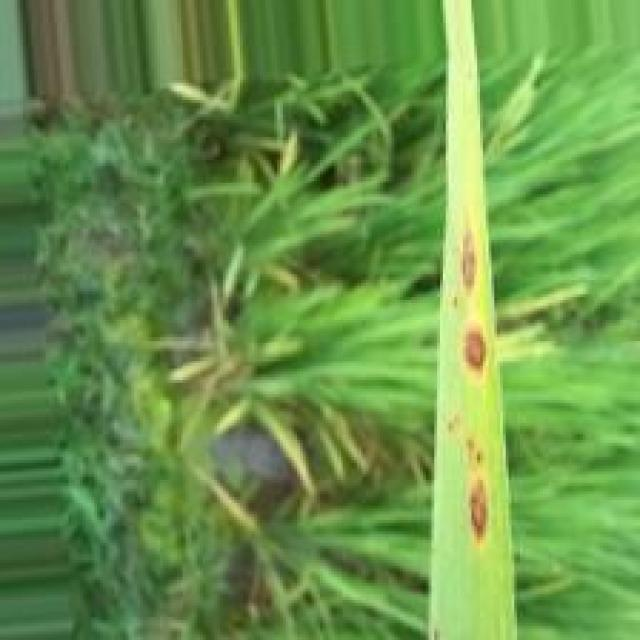Brown_Spot: (458, 232, 480, 292), (462, 324, 488, 374), (470, 479, 488, 546)
